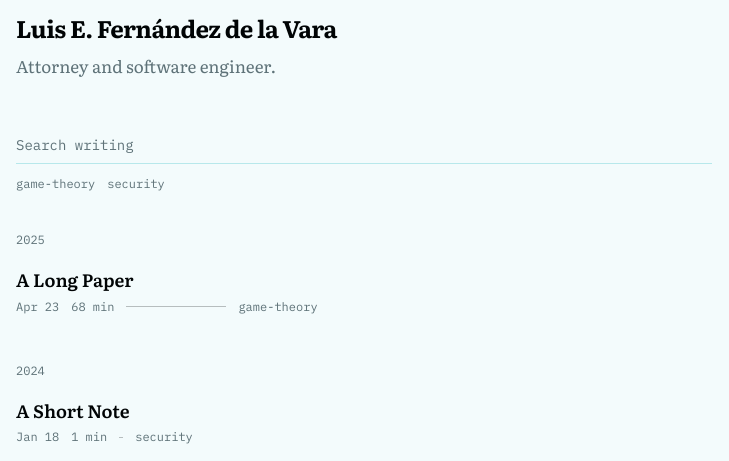
Test: Writing › narrows the list as you search
Expected: the heading "A Long Paper" is shown, [16, 266, 134, 293]
Step 1. Type "security" into the search field labelled "Search writing" → {"x": 364, "y": 149}, box [16, 135, 712, 164]
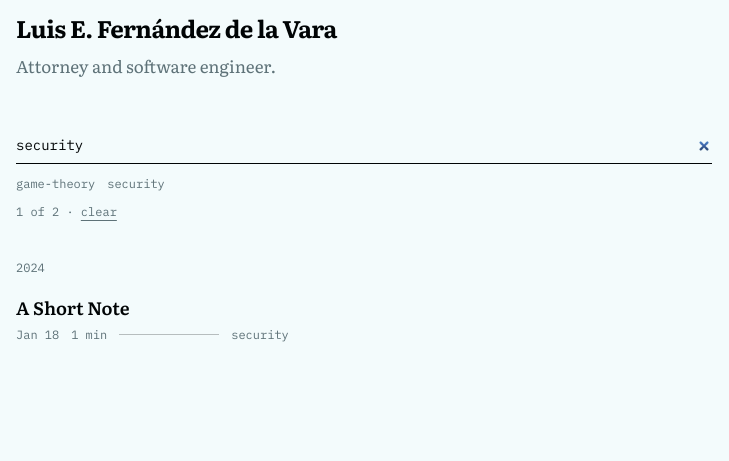
Expected: the heading "A Short Note" is shown, [16, 294, 130, 321]
Result: the link "A Long Paper" is gone
